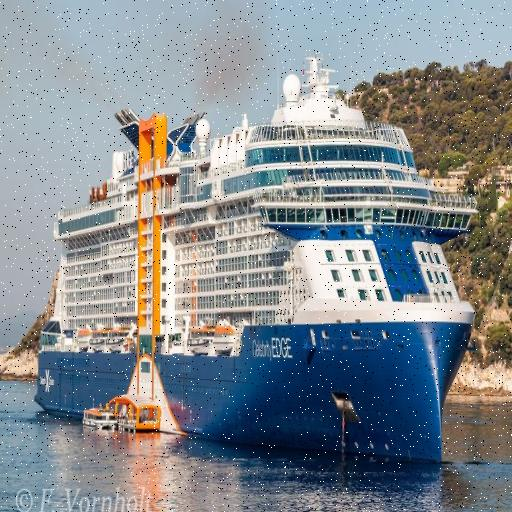cruises: (32, 56, 481, 470)
